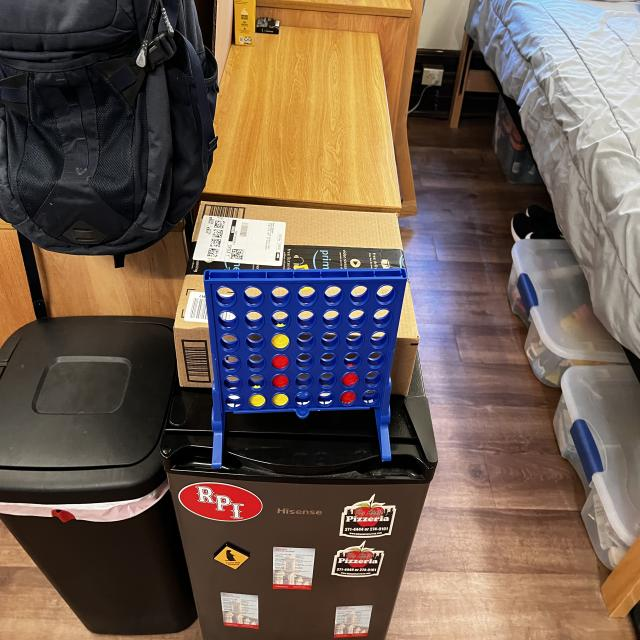Board: (202, 269, 406, 415)
No Piece: (241, 284, 266, 308), (214, 284, 237, 309), (242, 309, 267, 332), (294, 308, 318, 331), (215, 310, 240, 332), (296, 284, 318, 308), (349, 283, 371, 307), (294, 330, 317, 352), (318, 330, 341, 352), (375, 283, 397, 306), (324, 282, 345, 306), (243, 332, 268, 352), (270, 285, 292, 307), (344, 329, 366, 351), (372, 306, 394, 328), (320, 308, 343, 329), (269, 308, 291, 329), (346, 308, 368, 329), (368, 328, 390, 349), (218, 333, 241, 353), (222, 373, 244, 393), (220, 354, 242, 374), (365, 349, 387, 369), (245, 354, 268, 373), (246, 372, 267, 392), (318, 351, 338, 371), (364, 369, 384, 389), (316, 370, 337, 389), (295, 352, 315, 371), (223, 393, 244, 411), (294, 372, 314, 390), (342, 351, 362, 369), (292, 391, 312, 407), (315, 391, 335, 407), (362, 389, 380, 406)
Red Piece: (271, 352, 291, 372), (270, 372, 291, 390), (338, 390, 357, 409), (340, 371, 360, 389)
Yellow Piece: (271, 332, 291, 351), (248, 392, 267, 410), (271, 392, 290, 410)
